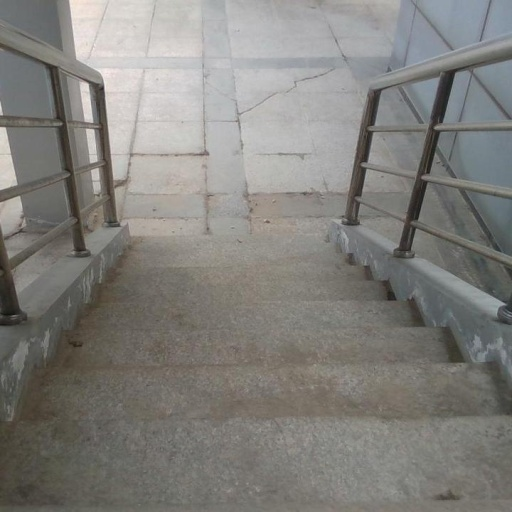Stairs: (0, 236, 512, 512)
